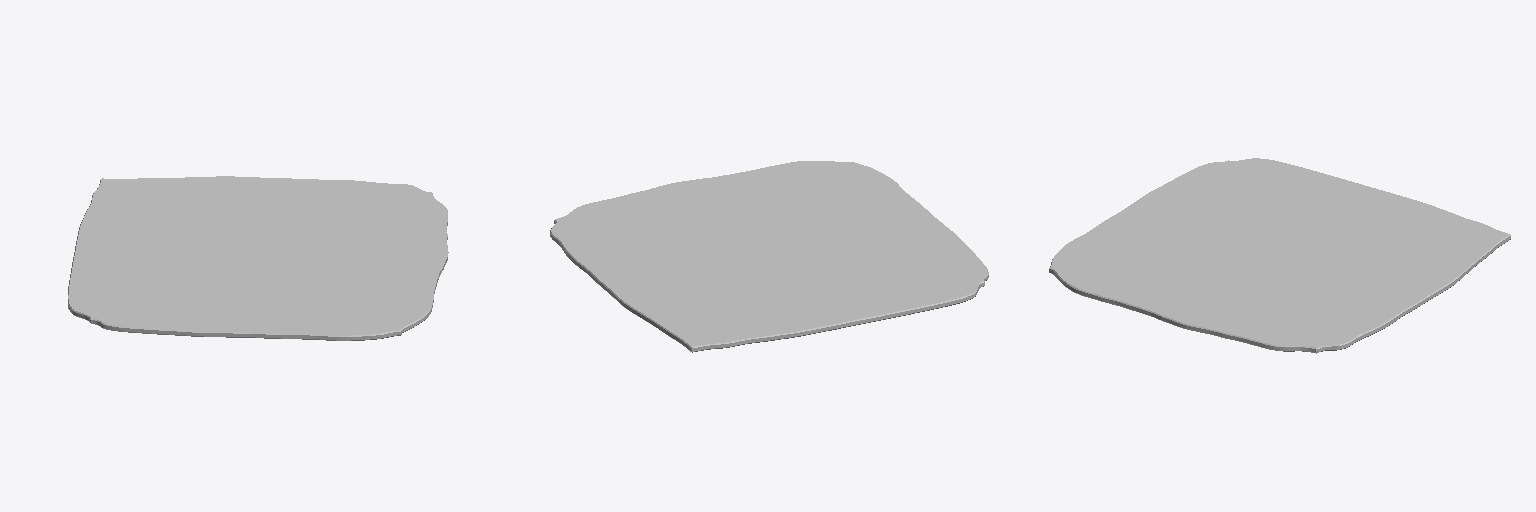
File: burger_cheese.obj
3 views of the same model, side by side, from view 1: azimuth 30°, elevation 25°; view 2: azimuth 150°, elevation 25°; view 3: azimuth 270°, elevation 25° (orthographic).
Visible parts, largest first — view 1: Plane.001; view 2: Plane.001; view 3: Plane.001.
Boxes of the visible parts, <box> form: Plane.001: <box>68,176,448,340</box>; Plane.001: <box>550,161,988,352</box>; Plane.001: <box>1049,158,1510,353</box>.
Size of the model in its own units: 2.09 by 0.0286 by 2.15.